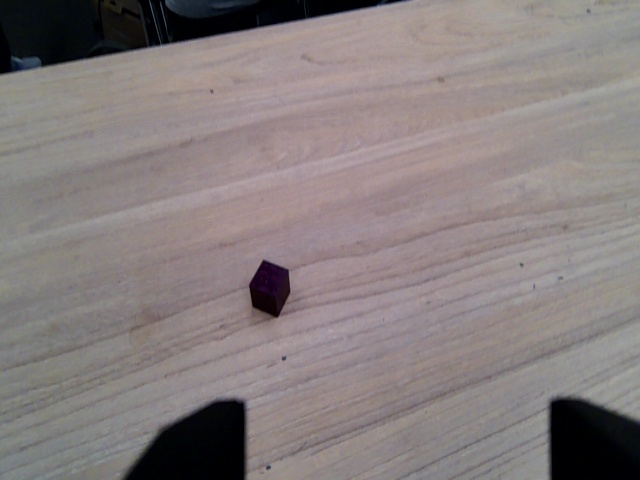brick: (245, 256, 294, 321)
